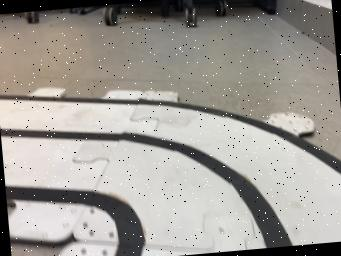street: (0, 94, 341, 256), (0, 94, 341, 256), (0, 94, 341, 256)
